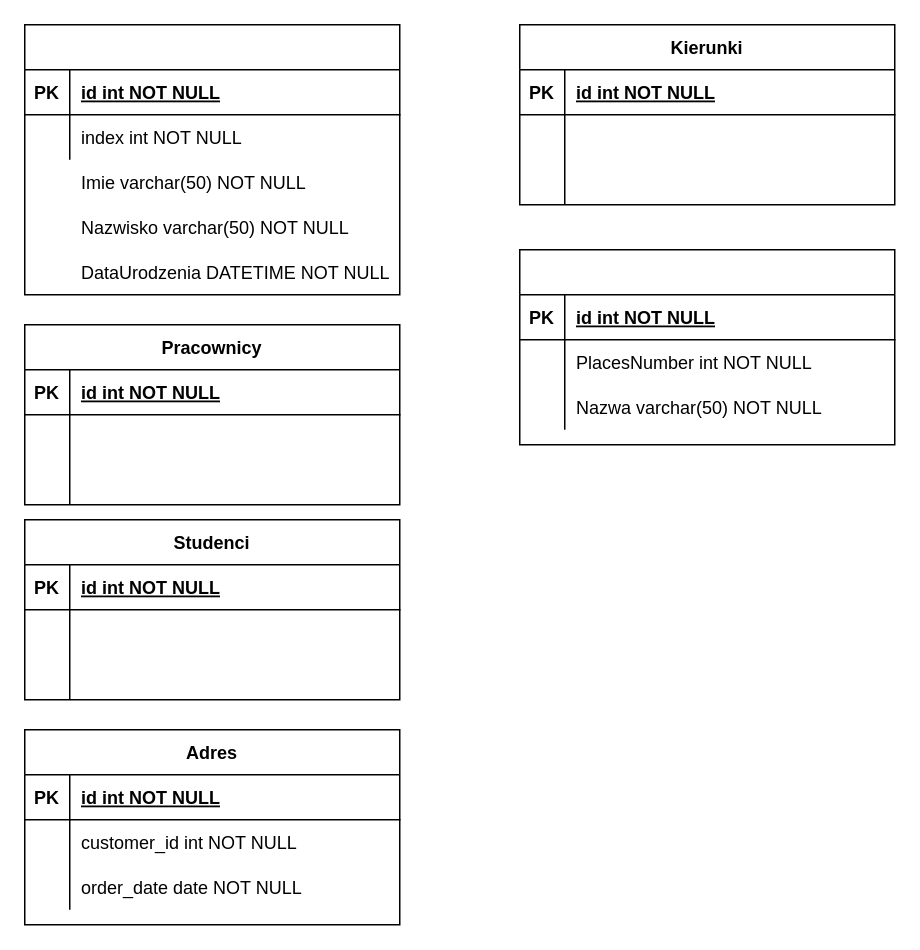
This 920x950 diagram has some shape labels left out. The box of each missing label's shape, as (x1, y1, x2, y2) in pixels:
Kierunek: (518, 248, 895, 445)
Osoba: (23, 23, 400, 295)
